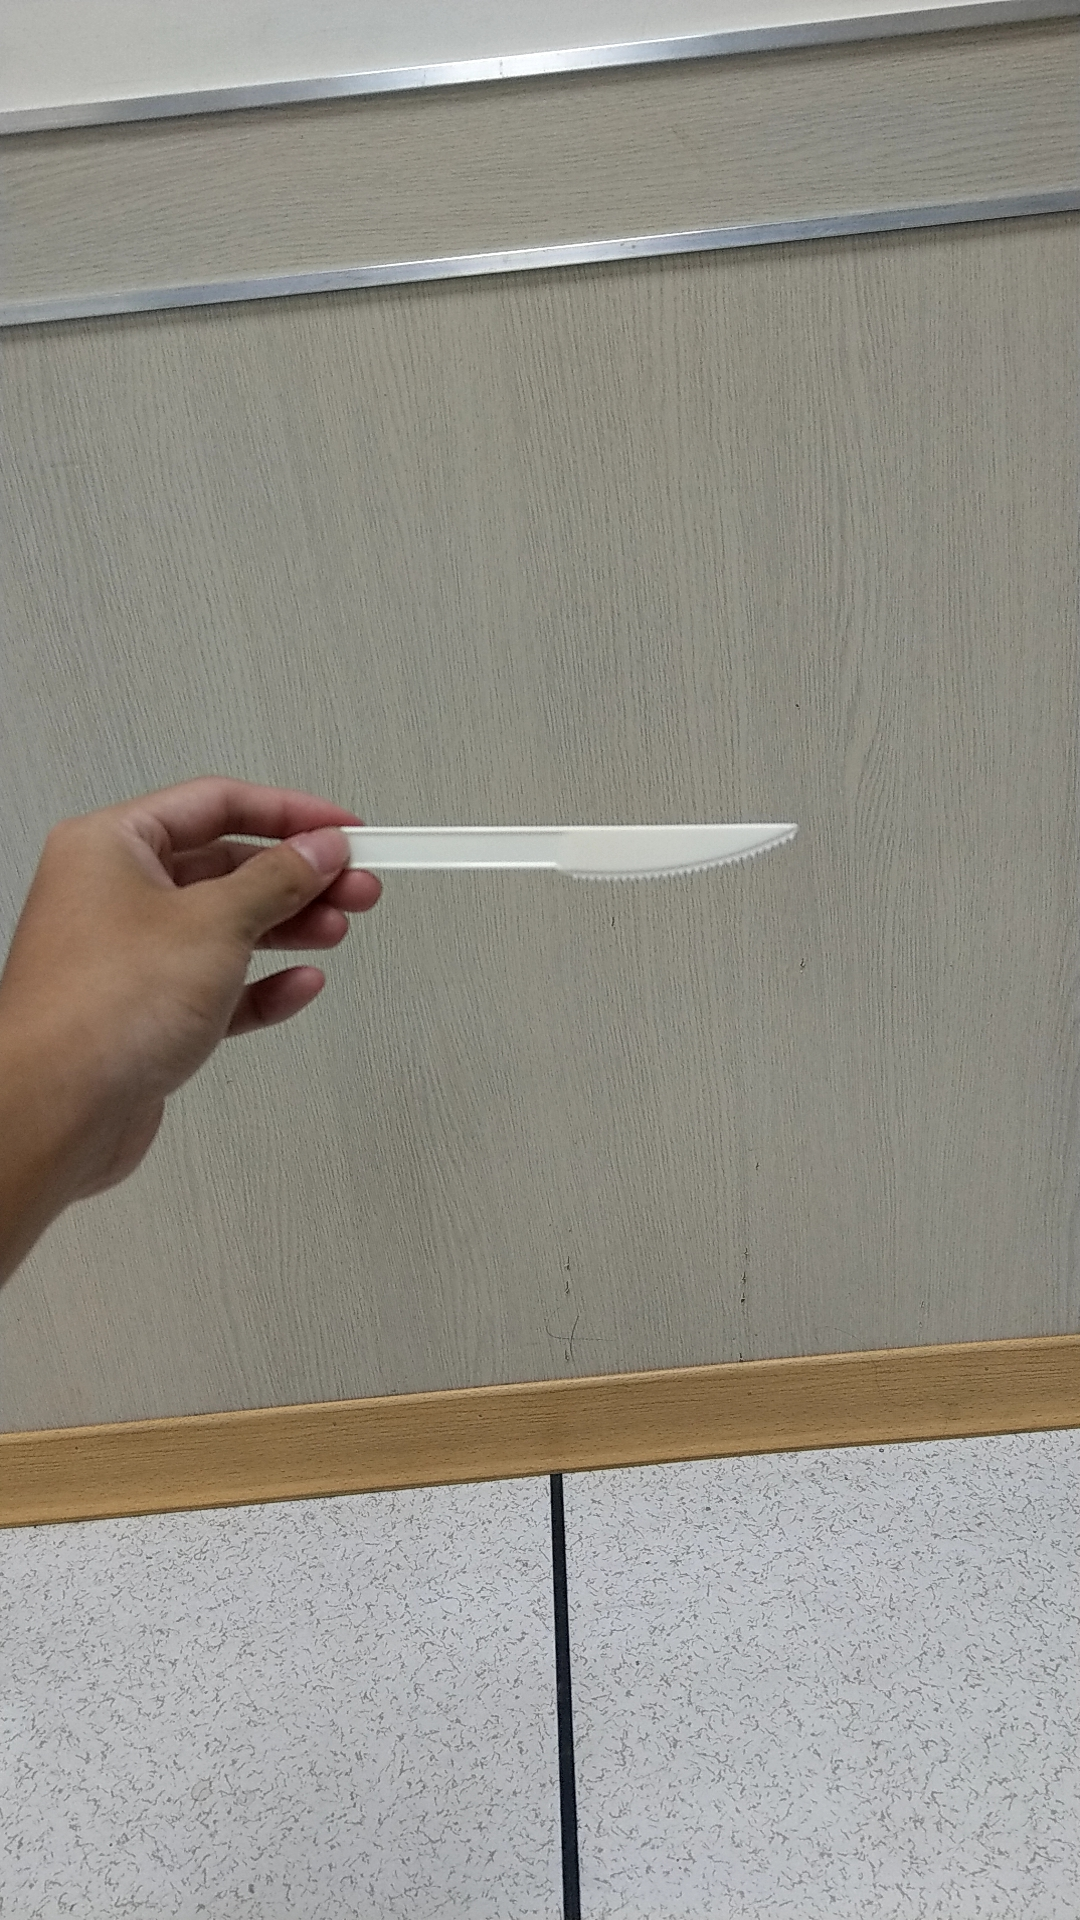knife: (353, 786, 818, 907)
